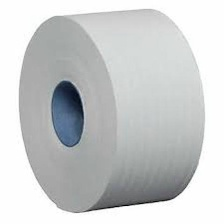tissue: (14, 3, 211, 217)
